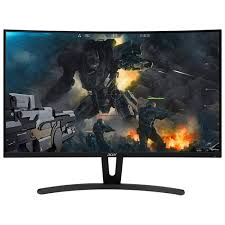monitor: (1, 26, 225, 204)
